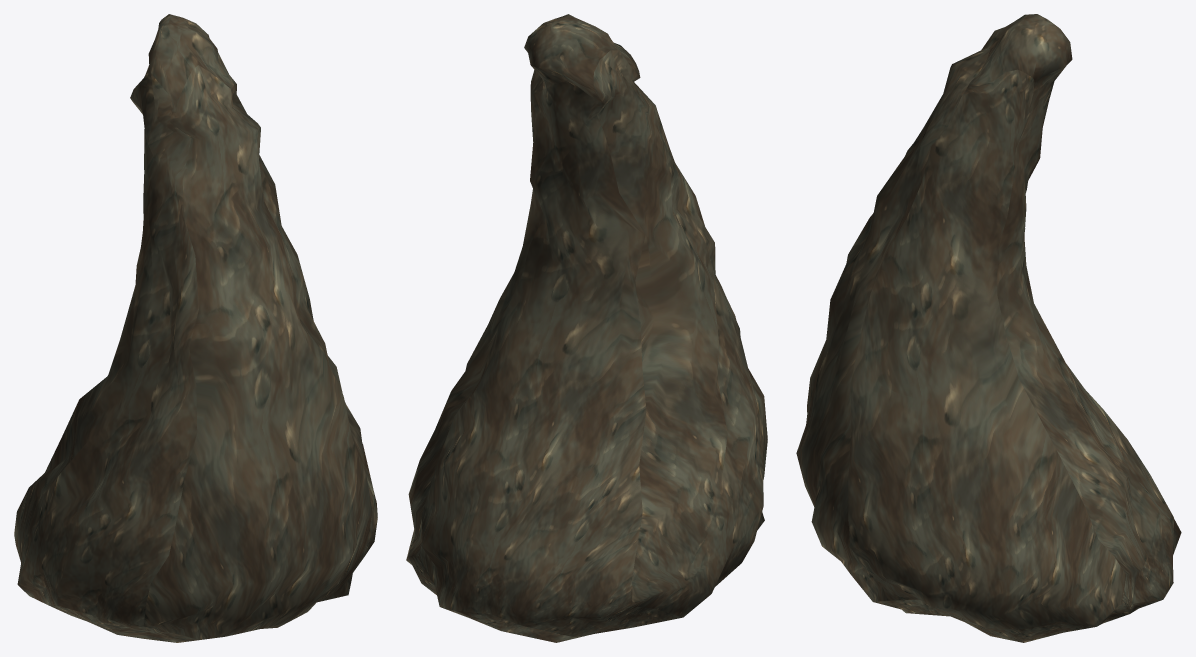
Rendered from rock_02.FBX.
3 views of the same model, side by side, from view 1: azimuth 30°, elevation 25°; view 2: azimuth 150°, elevation 25°; view 3: azimuth 270°, elevation 25° (orthographic).
Visible parts, largest first — view 1: Box005; view 2: Box005; view 3: Box005.
Boxes of the visible parts, x1,y1,x2,y2 form: Box005: (14, 14, 377, 642); Box005: (406, 14, 767, 642); Box005: (796, 14, 1181, 642).
Bounding box in the file's own units: 27.88 × 51.17 × 30.46.
